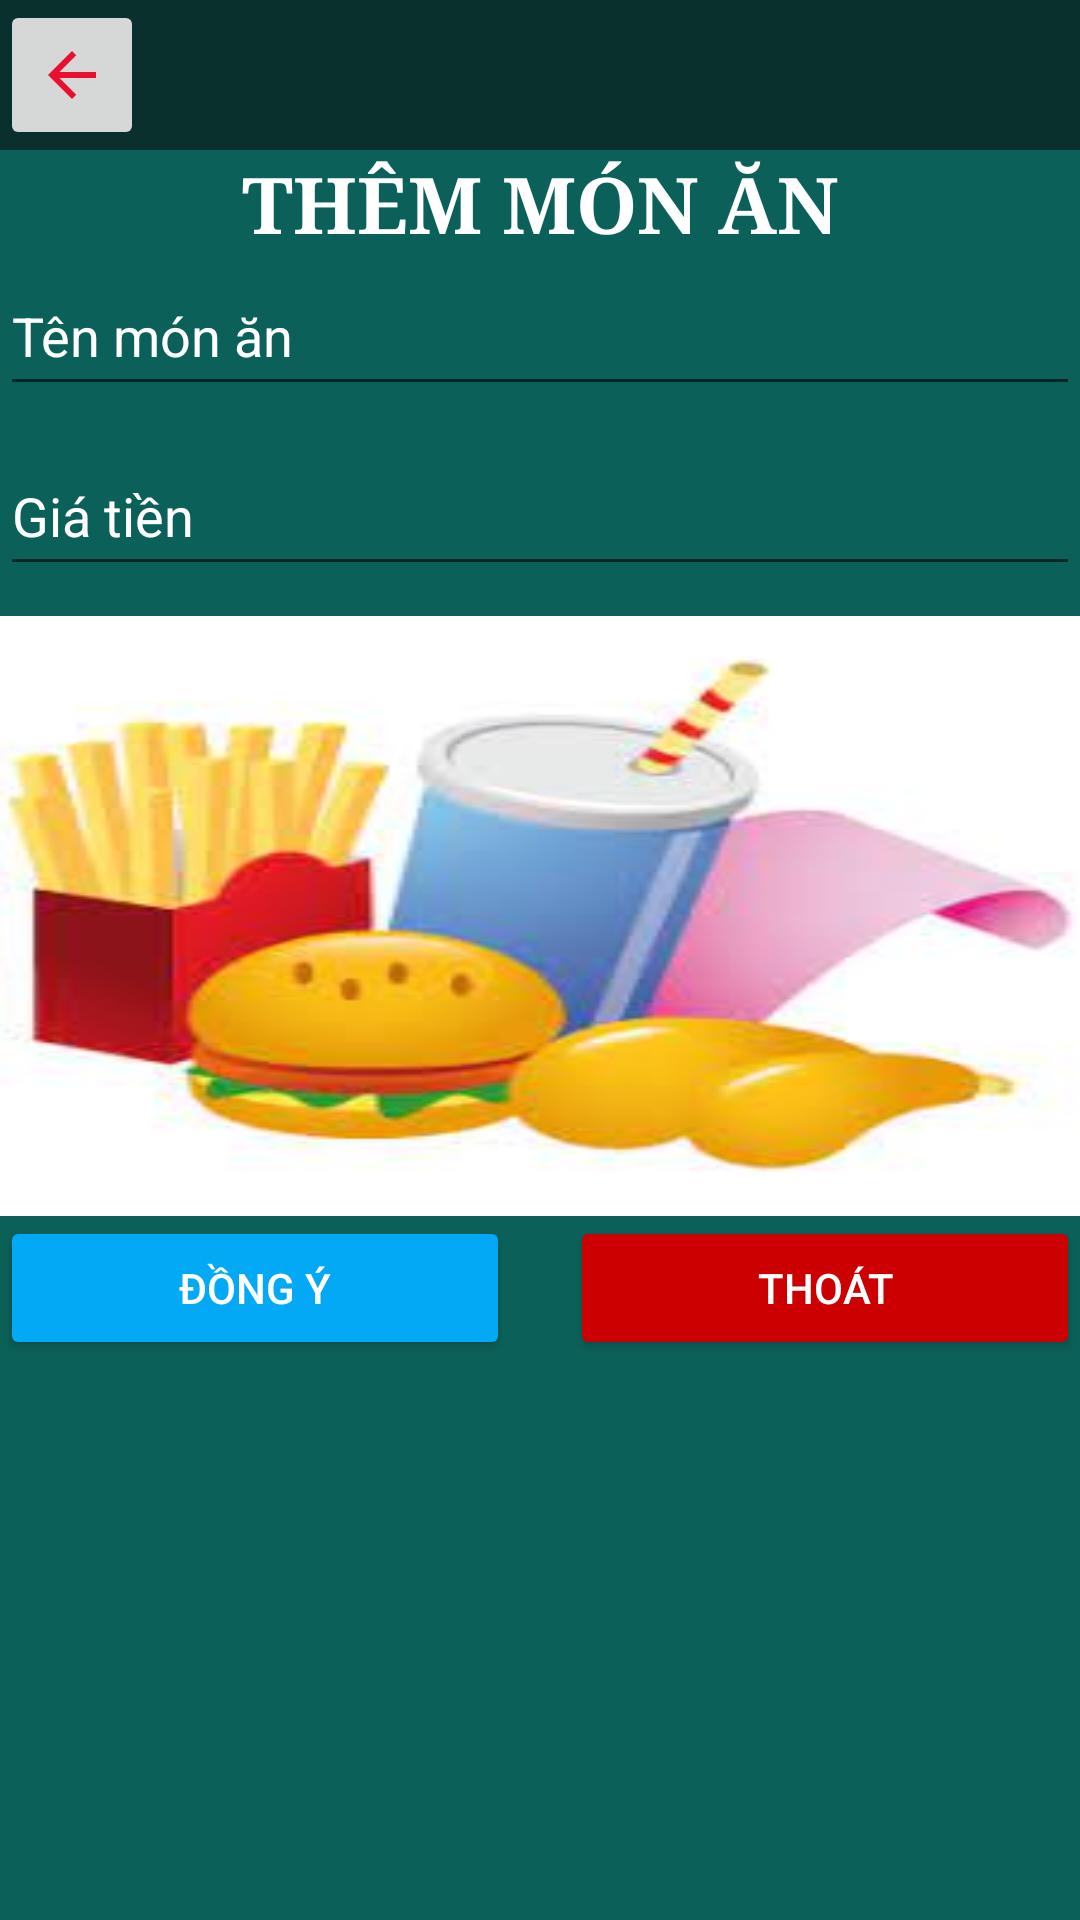

Icons on this 1080*1920 Android screen, each with the point to tap as (x=x, y=y):
arrow back: (x=72, y=75)
